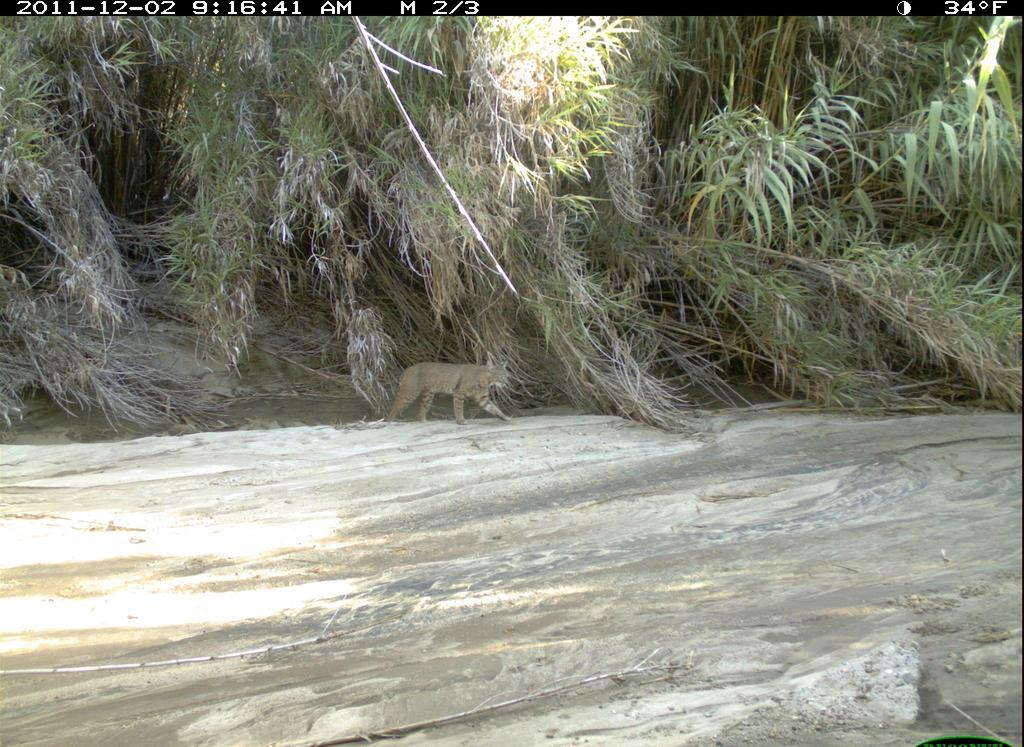bobcat: (367, 345, 527, 436)
